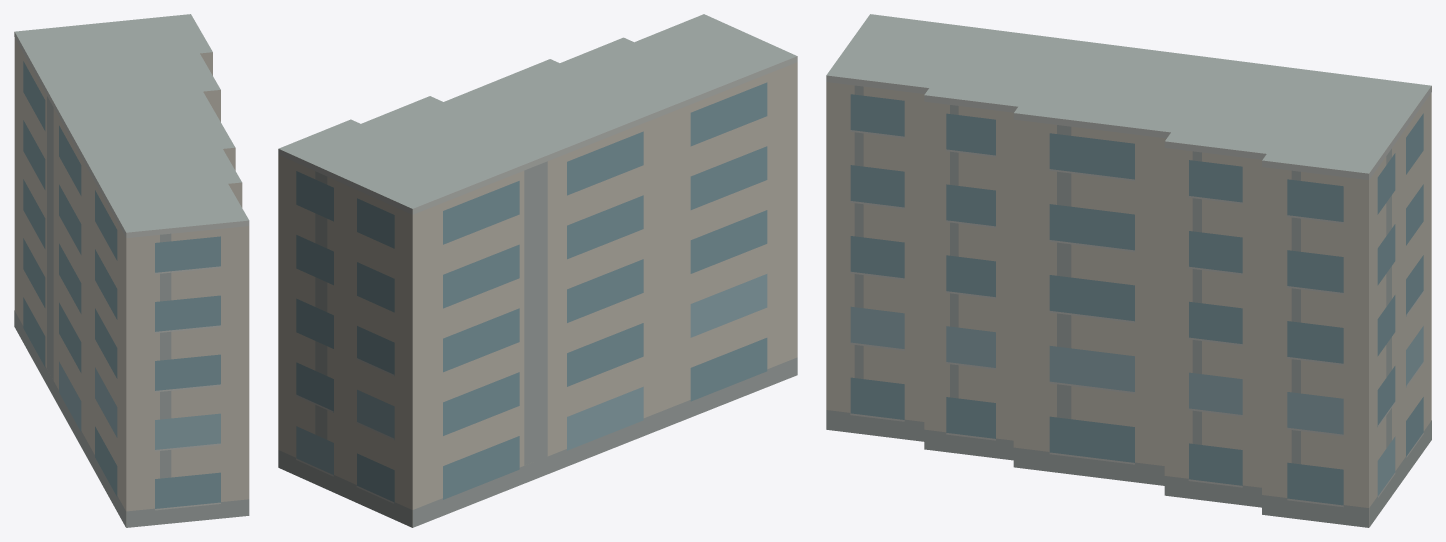
The model's file is survey-upis-32879195.glb.
The picture shows the model from 3 angles, left to right: view 1: azimuth 30°, elevation 25°; view 2: azimuth 150°, elevation 25°; view 3: azimuth 270°, elevation 25°; orthographic projection. The views are drawn at different scales.
Visible parts, largest first — view 1: survey-upis-32879195.tmp; view 2: survey-upis-32879195.tmp; view 3: survey-upis-32879195.tmp.
Part boxes in pixels (x1,y1,x2,y2): survey-upis-32879195.tmp: [14, 14, 249, 527]; survey-upis-32879195.tmp: [278, 14, 797, 527]; survey-upis-32879195.tmp: [826, 14, 1431, 527].
Size of the model in its own units: 12.77 by 13.2 by 20.46.
